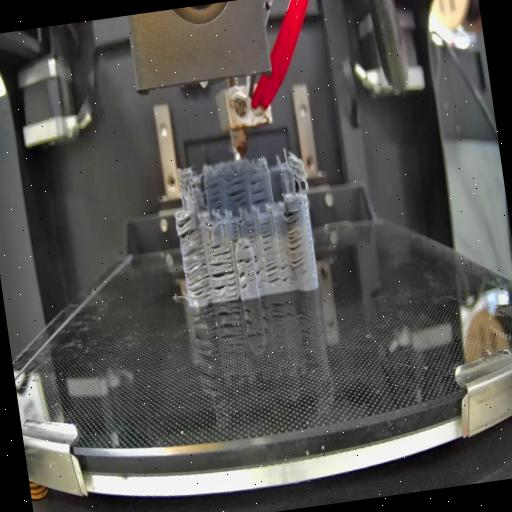cracks: (181, 243, 212, 301), (282, 206, 308, 268), (210, 260, 238, 302), (264, 254, 292, 286), (225, 176, 250, 209), (175, 212, 201, 242), (248, 176, 270, 206), (208, 182, 225, 212), (253, 252, 266, 290), (259, 220, 274, 252), (210, 240, 231, 258), (238, 270, 251, 293), (246, 222, 258, 246), (230, 220, 240, 244), (236, 256, 252, 266), (242, 244, 252, 252)
